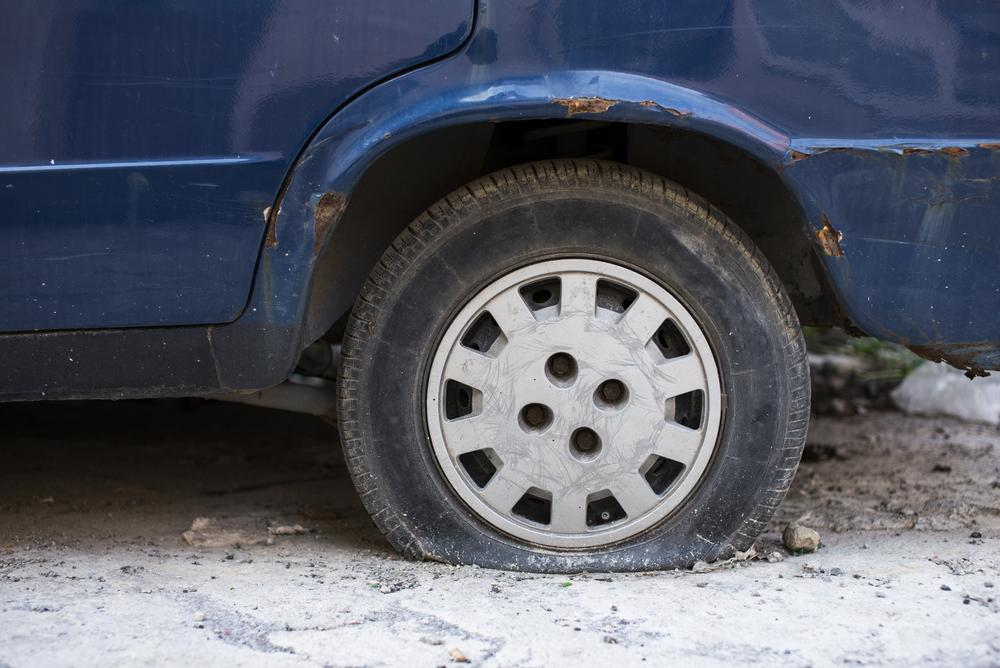tire flat: (333, 157, 810, 573)
